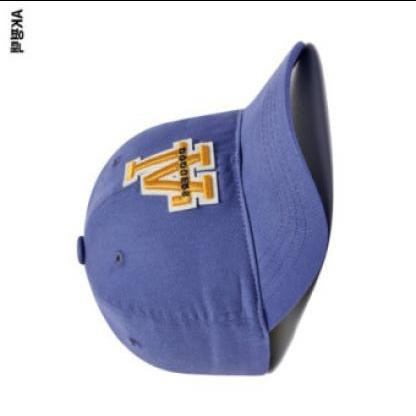cap: (64, 28, 340, 393)
